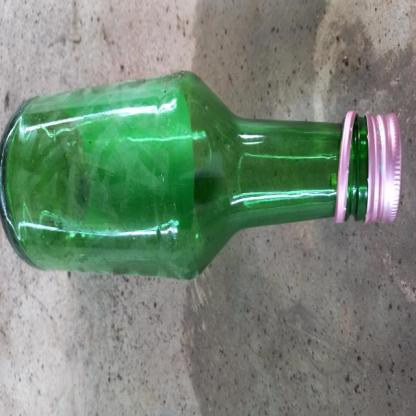Can: (0, 70, 403, 288)
